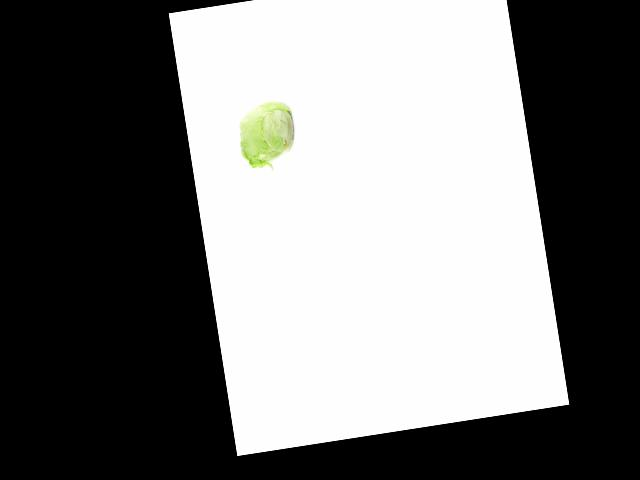lettuce: (231, 96, 301, 168)
